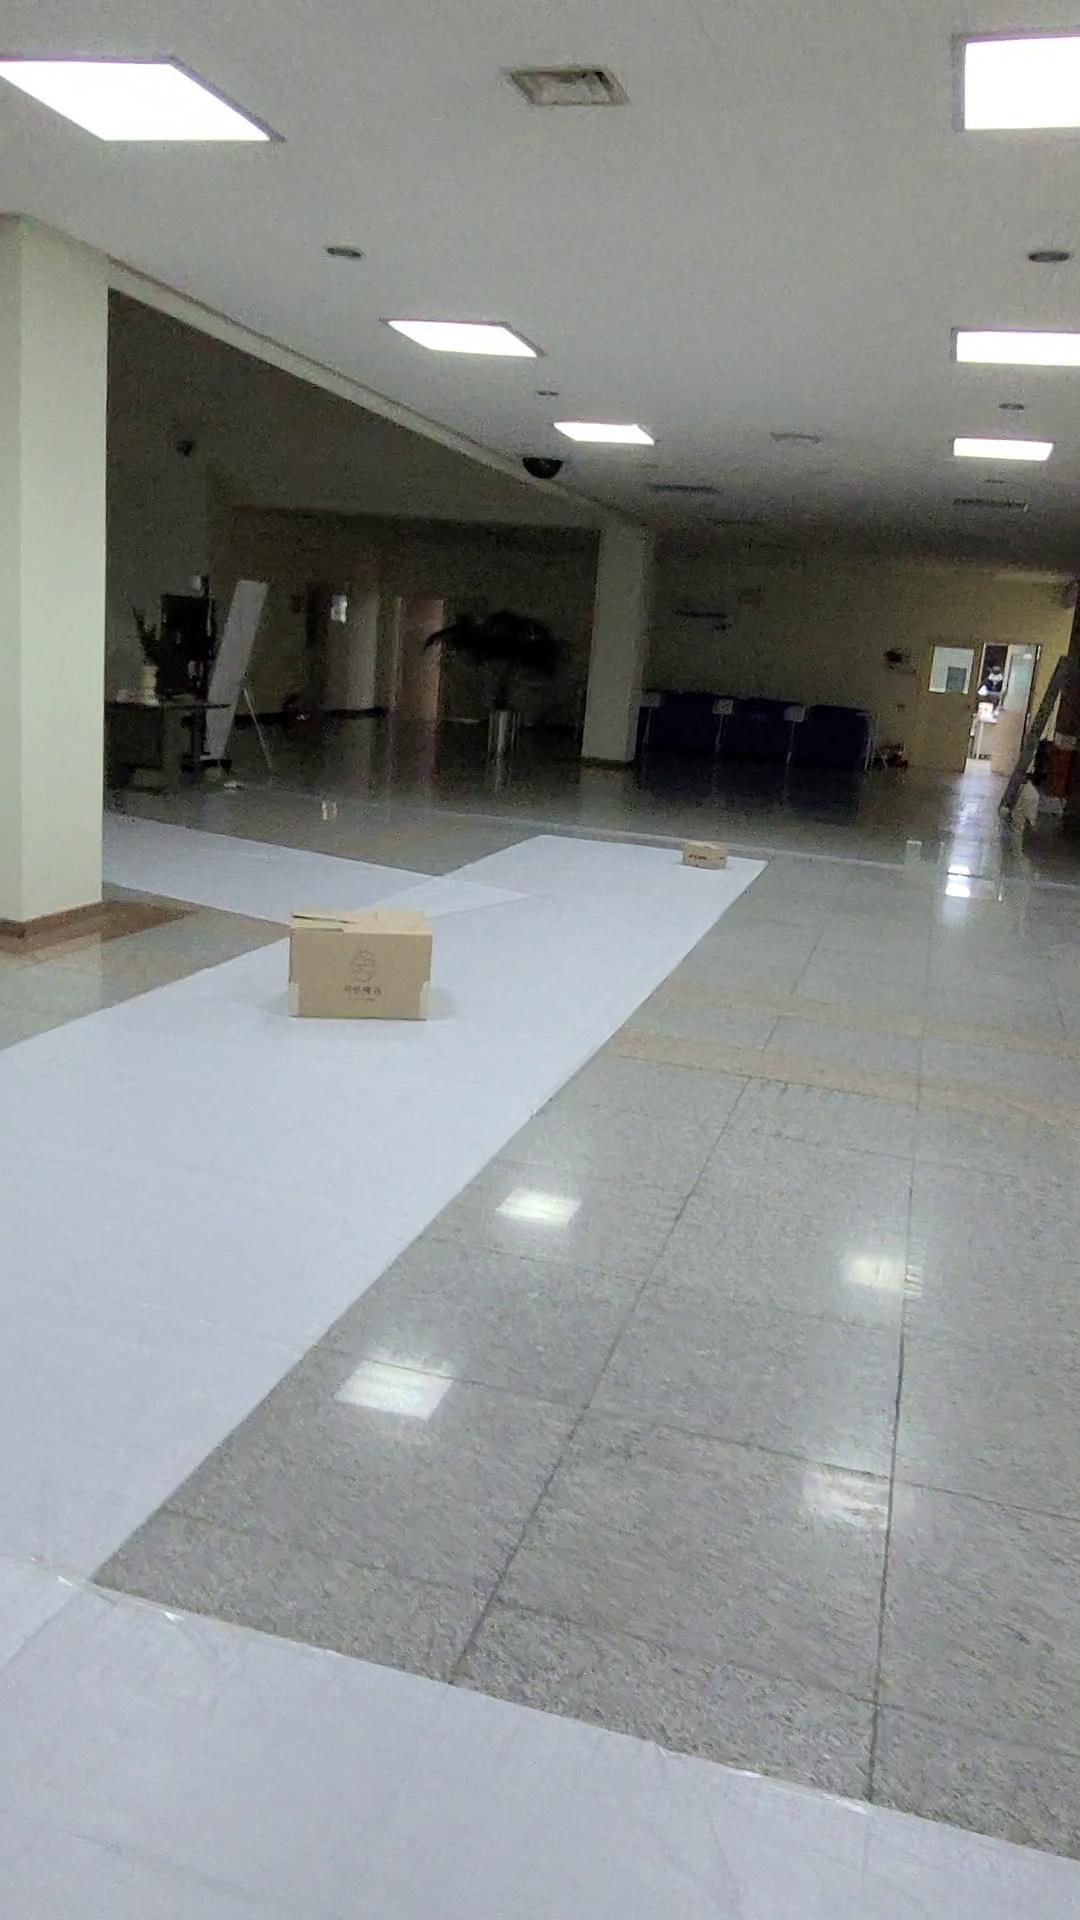Box: (262, 878, 477, 1060), (636, 814, 752, 905)
